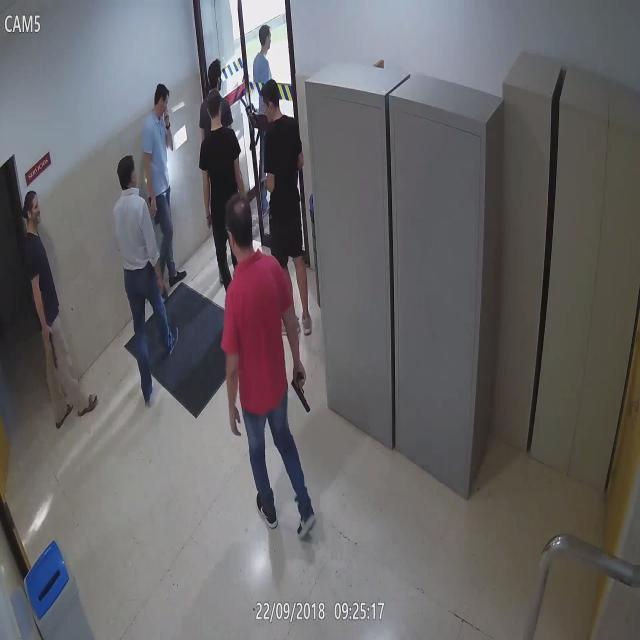weapon: (290, 373, 310, 414), (146, 200, 159, 226)
